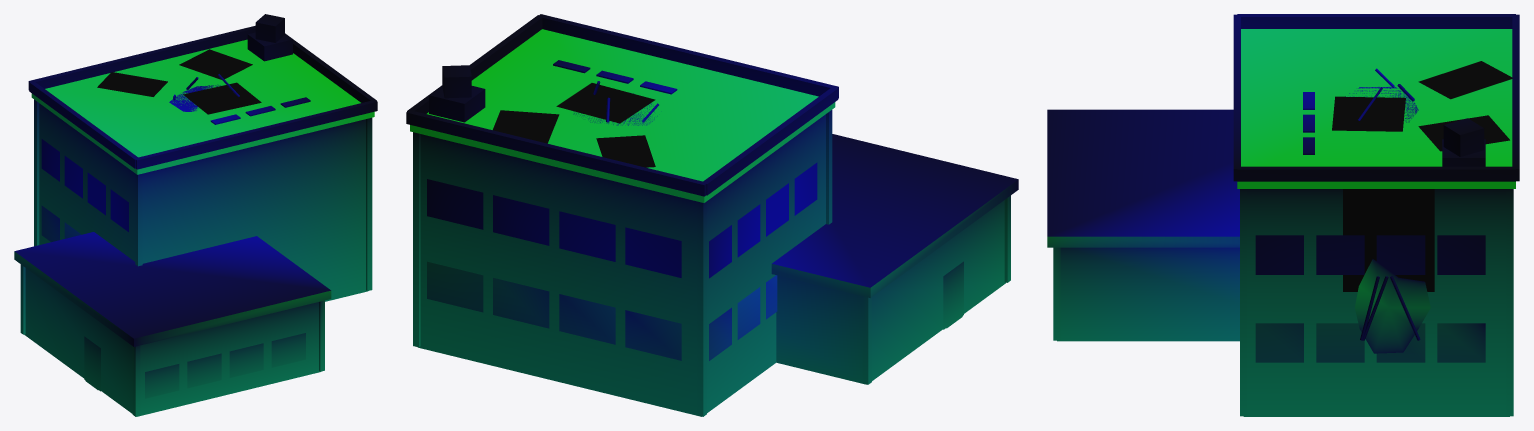
The model's file is s_spotlightcontrol_damaged.glb.
3 renders of one model, left to right at view 1: azimuth 30°, elevation 25°; view 2: azimuth 150°, elevation 25°; view 3: azimuth 270°, elevation 25°, orthographic. The views are drawn at different scales.
Visible parts, largest first — view 1: lod0; view 2: lod0; view 3: lod0.
Part boxes in pixels (<box>): lod0: <box>14,14,377,416</box>; lod0: <box>406,14,1018,416</box>; lod0: <box>1047,14,1519,416</box>.
Size of what is drawn, in the model's own units: 19.8 by 12.8 by 19.5.
